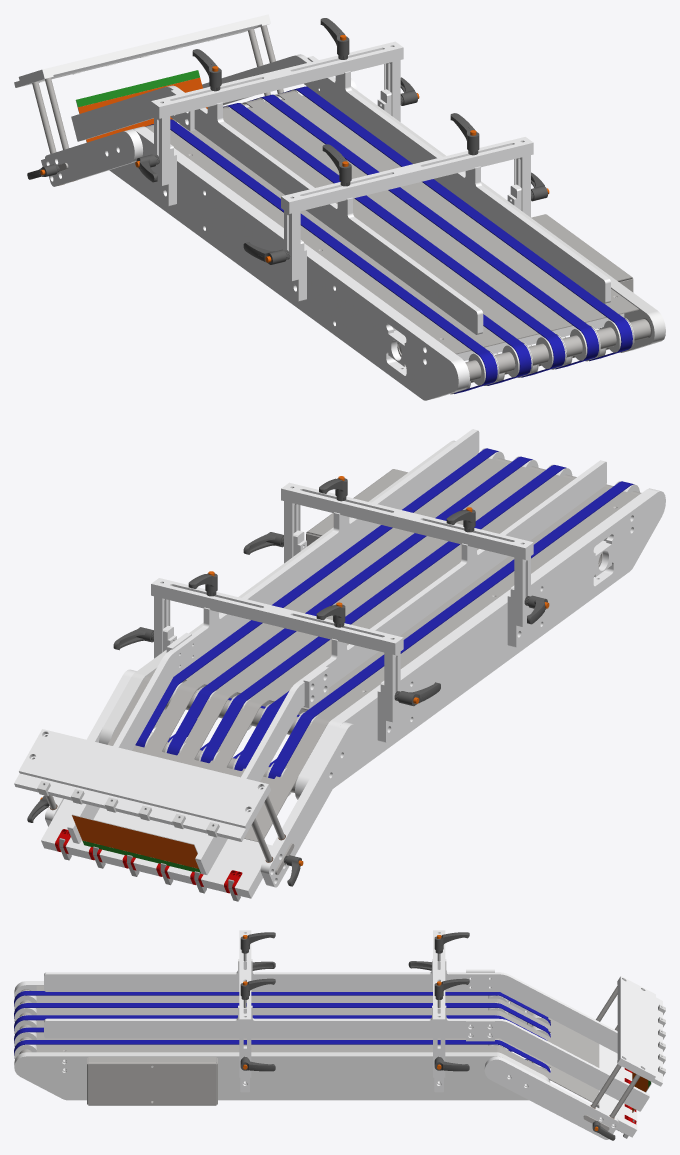
3 views of the same model, one above another, from view 1: azimuth 30°, elevation 25°; view 2: azimuth 150°, elevation 25°; view 3: azimuth 270°, elevation 25° (orthographic). The views are drawn at different scales.
Visible parts, largest first — view 1: Solido2 (×29), Solido1; view 2: Solido2 (×24), Solido1; view 3: Solido2 (×25), Solido1.
Boxes of the visible parts, left/top/right/bottom form: Solido2 (×29): left=14, top=14, right=665, bottom=400; Solido1: left=531, top=214, right=633, bottom=292; Solido2 (×24): left=14, top=429, right=665, bottom=898; Solido1: left=306, top=469, right=407, bottom=546; Solido2 (×25): left=14, top=930, right=662, bottom=1139; Solido1: left=87, top=1057, right=217, bottom=1105.
Size of the model in its own units: 0.51 by 0.3445 by 1.34.
